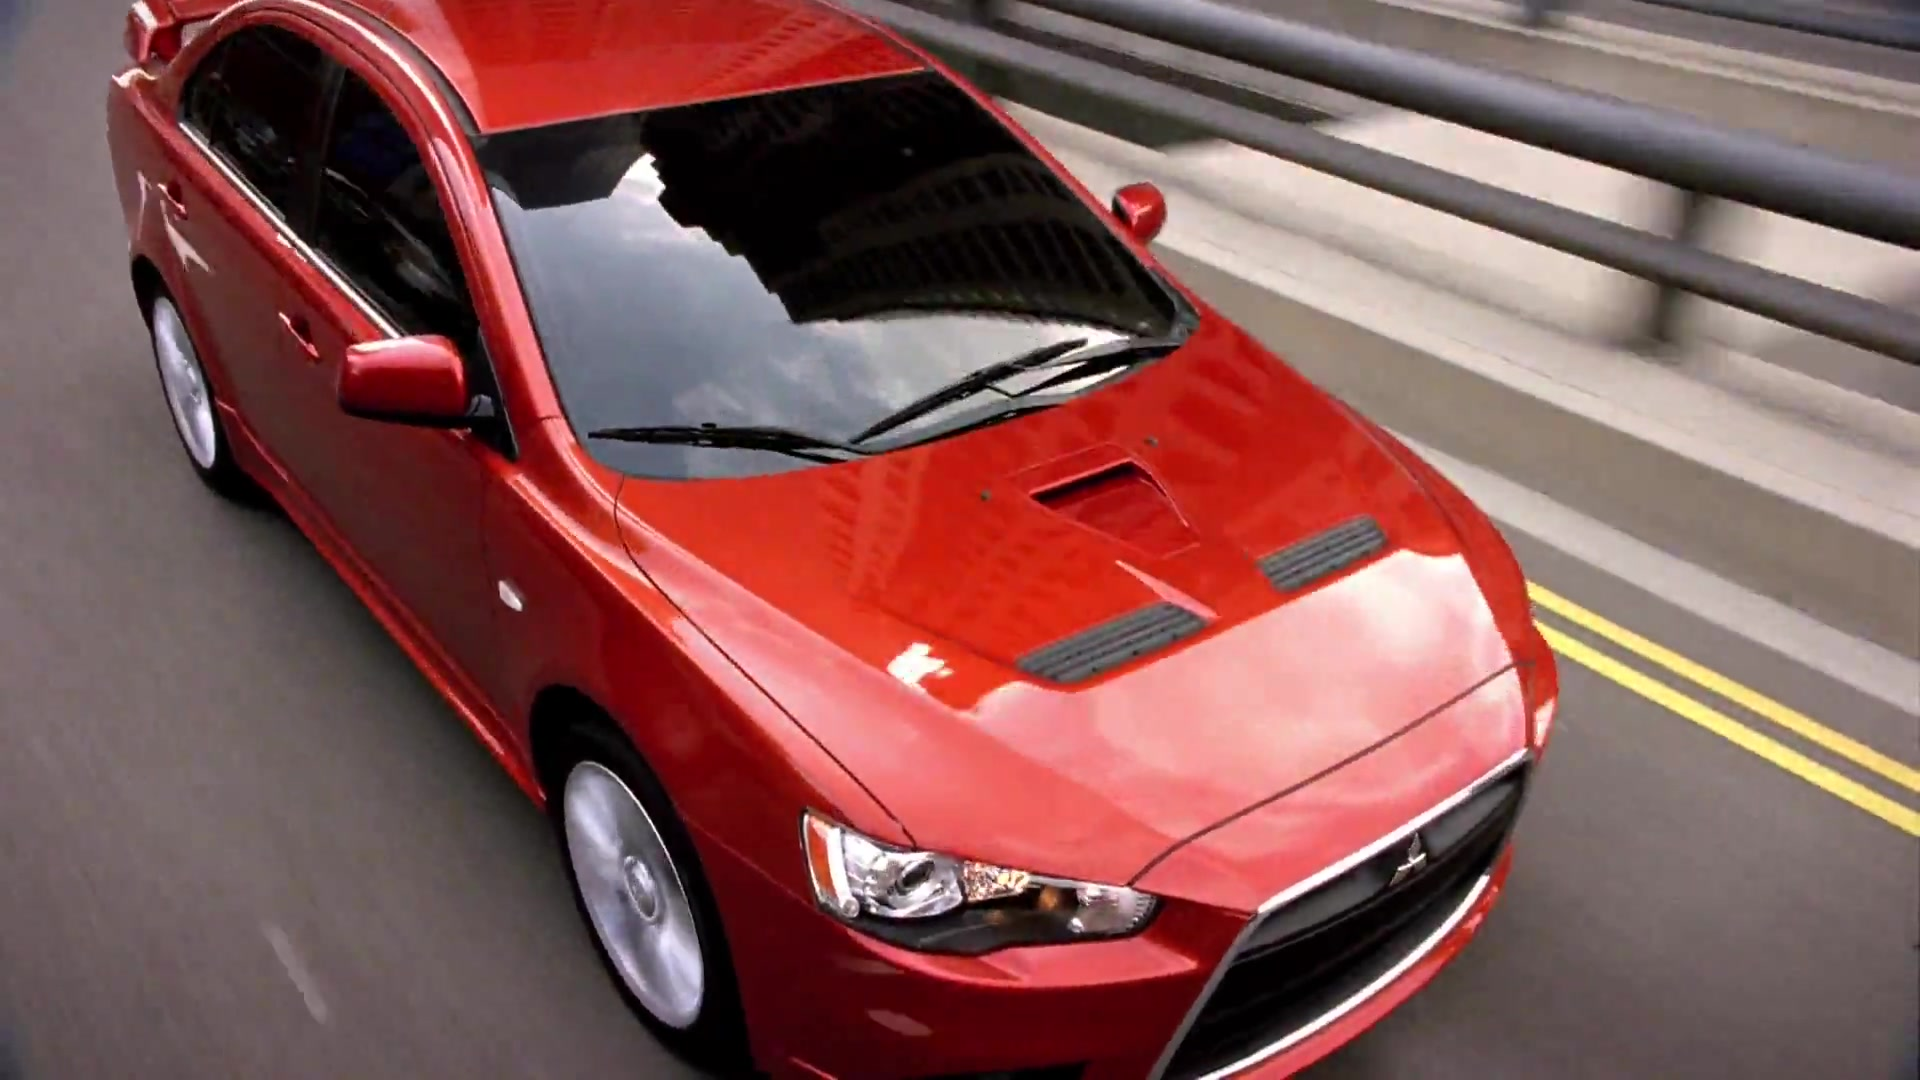car: (96, 5, 1569, 1079)
